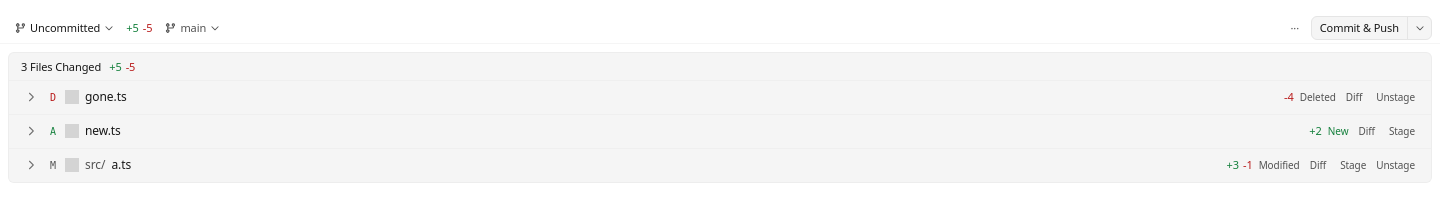
ChangesPanel › populates the commit field with the agent-generated subject
Click the button "Commit & Push": (1359, 28) [1312,16,1407,38]
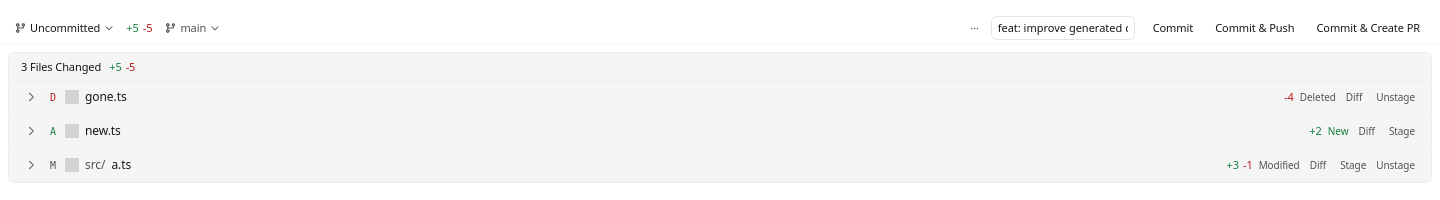
Check: the field named "Commit message" holds "feat: improve generated commit messages", box [991,16,1135,40]
